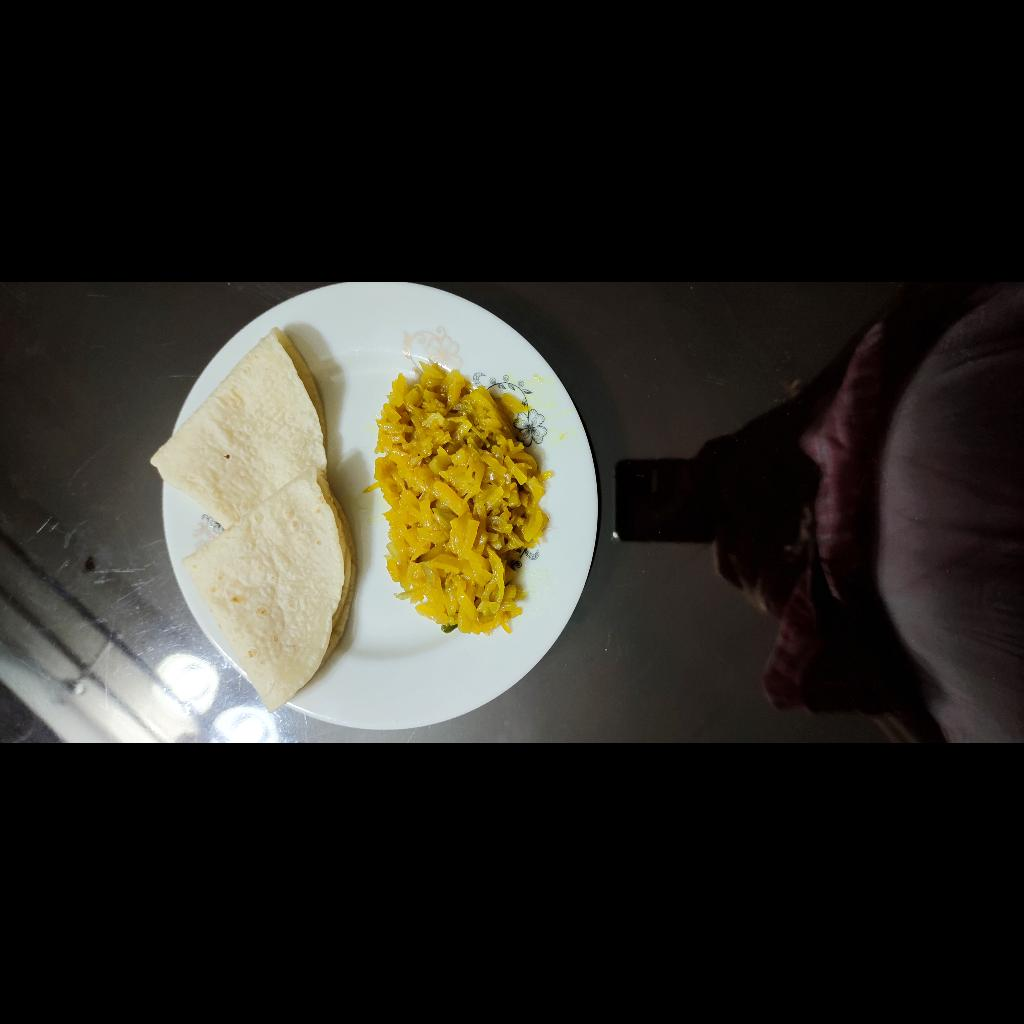ruti: (33, 428, 417, 637)
vaji: (107, 653, 384, 832)
